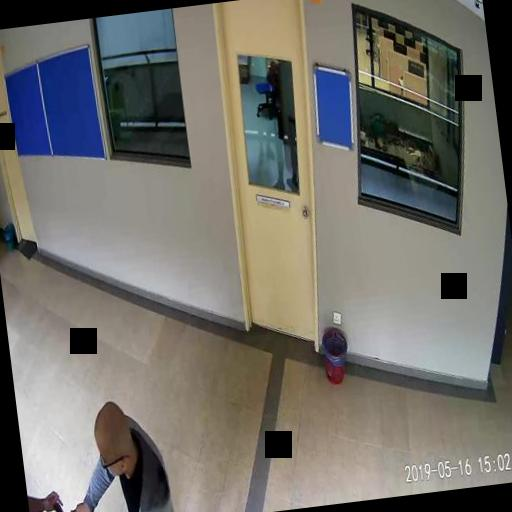Handgun: (51, 496, 82, 512)
